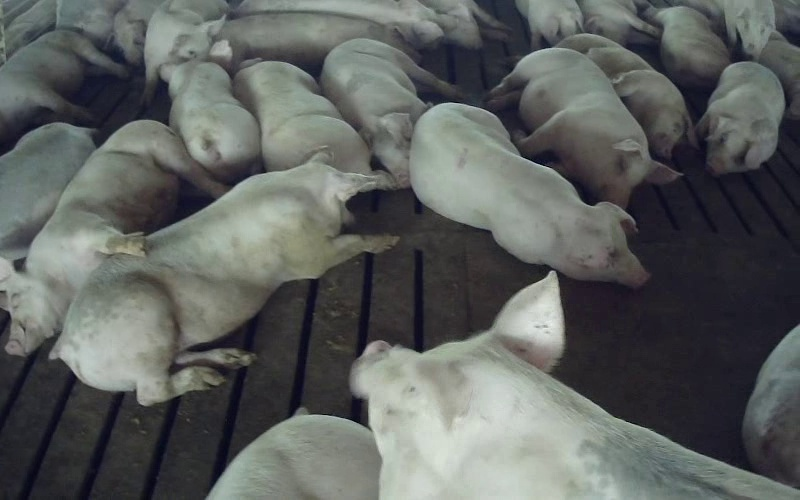pig: (351, 271, 799, 499), (51, 154, 395, 404), (0, 120, 227, 352), (410, 103, 648, 286), (487, 48, 678, 207), (320, 39, 459, 187), (556, 33, 695, 159), (234, 60, 370, 173), (0, 30, 128, 143), (161, 40, 260, 182), (0, 123, 94, 259), (218, 12, 415, 67), (236, 0, 456, 48), (696, 62, 784, 174), (644, 6, 729, 90), (577, 0, 660, 45), (515, 0, 583, 50)
